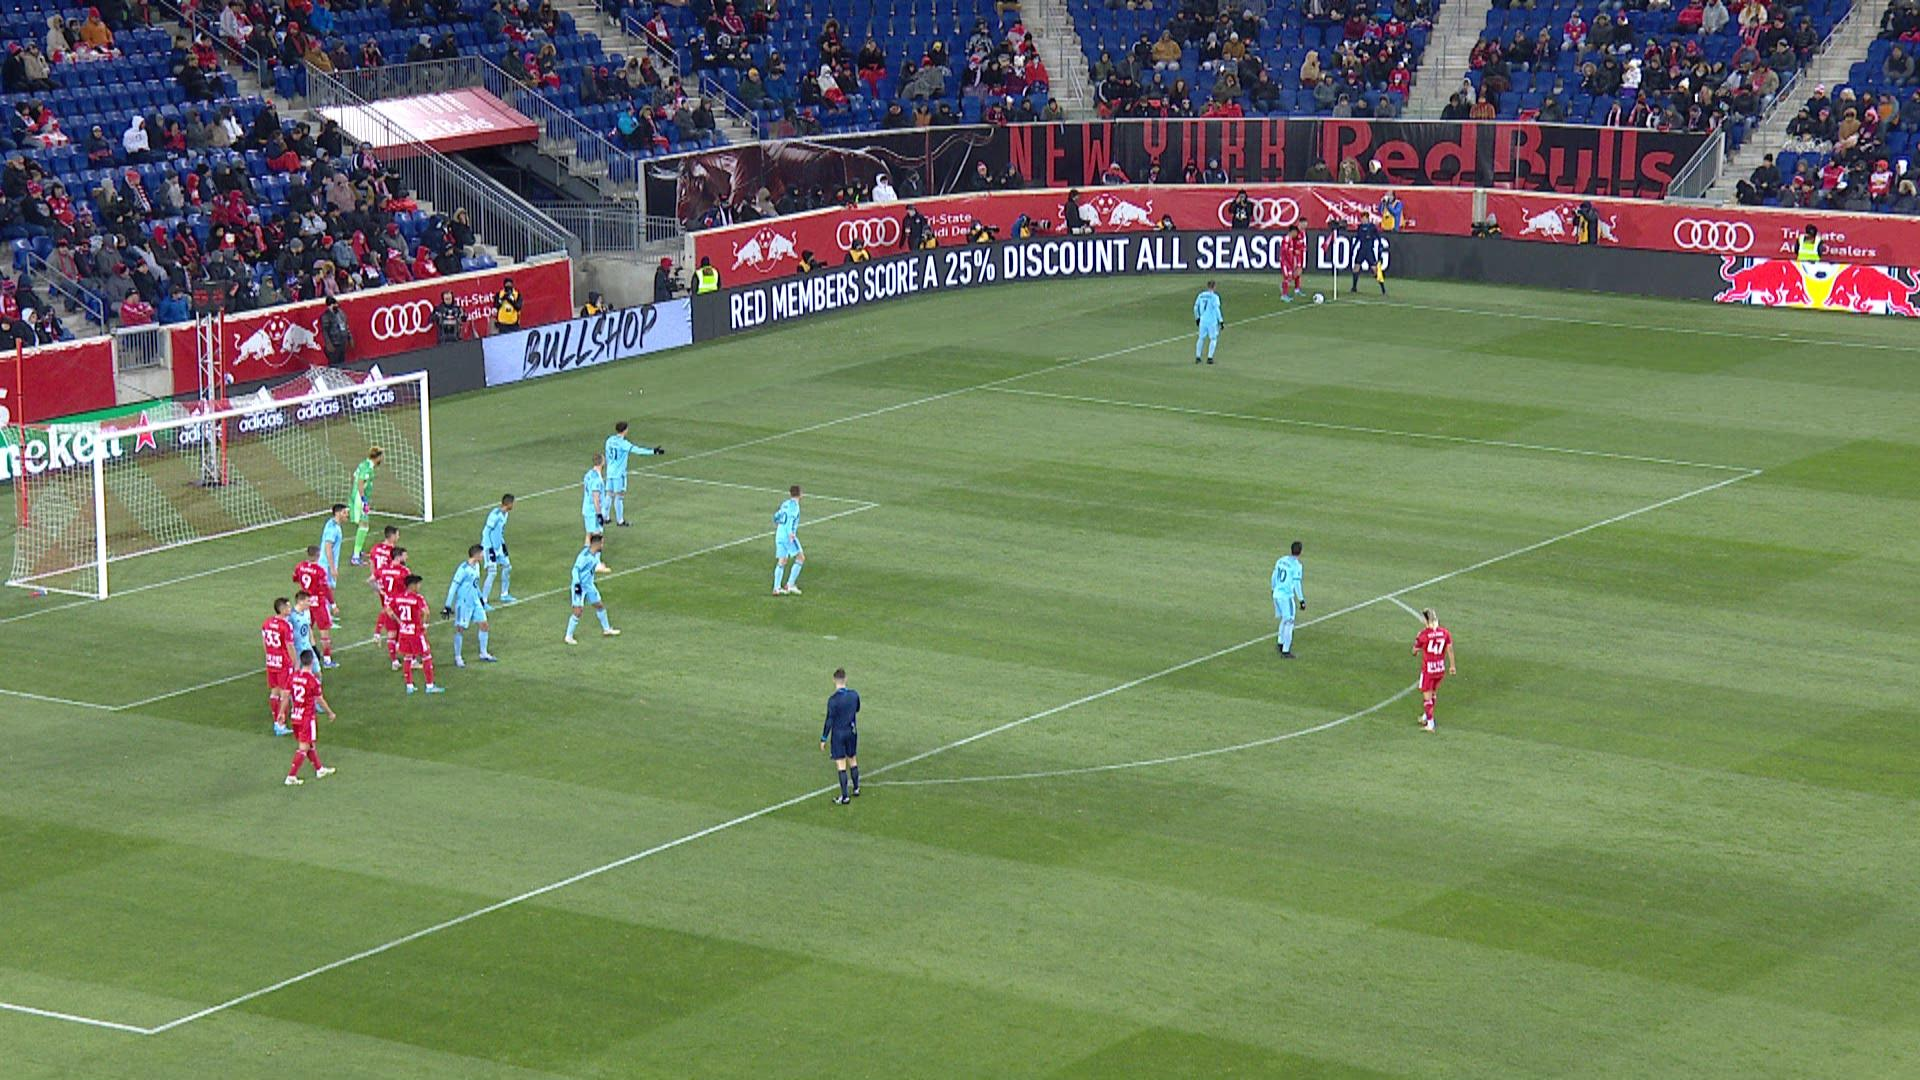football: (1312, 291, 1325, 306)
